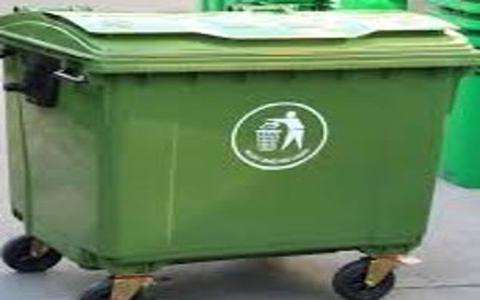Proper garbage: (7, 1, 476, 297)
